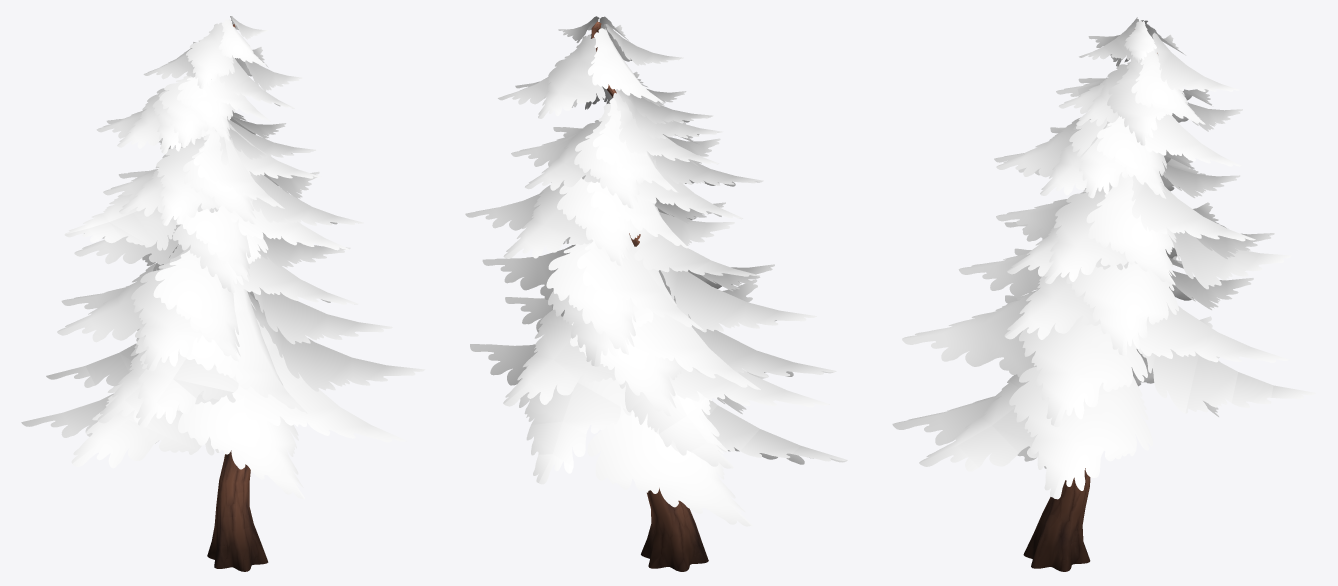
File: Pine_5.gltf
3 renders of one model, left to right at view 1: azimuth 30°, elevation 25°; view 2: azimuth 150°, elevation 25°; view 3: azimuth 270°, elevation 25°, orthographic. The views are drawn at different scales.
Parts seen in each view (by area): view 1: Pine_5; view 2: Pine_5; view 3: Pine_5.
Boxes of the visible parts, box(x1,y1,x2,y2) form: Pine_5: box(21, 16, 424, 571); Pine_5: box(465, 16, 847, 571); Pine_5: box(892, 17, 1315, 571).
Bounding box in the file's own units: 6.42 × 8.72 × 6.22.
Materials: 2 (2 with a texture image).
